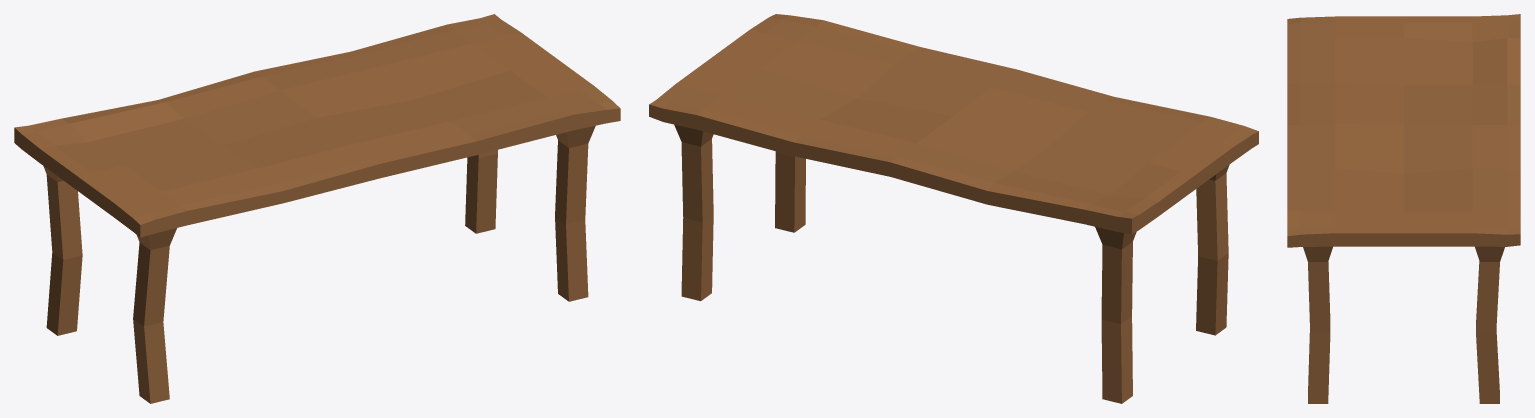
The model's file is Table2.fbx.
3 renders of one model, left to right at view 1: azimuth 30°, elevation 25°; view 2: azimuth 150°, elevation 25°; view 3: azimuth 270°, elevation 25°, orthographic. The views are drawn at different scales.
Visible parts, largest first — view 1: Cube.371; view 2: Cube.371; view 3: Cube.371.
Boxes of the visible parts, <box> form: Cube.371: <box>14,14,620,403</box>; Cube.371: <box>649,14,1258,403</box>; Cube.371: <box>1287,14,1520,403</box>.
Bounding box in the file's own units: 481 × 189 × 219.
